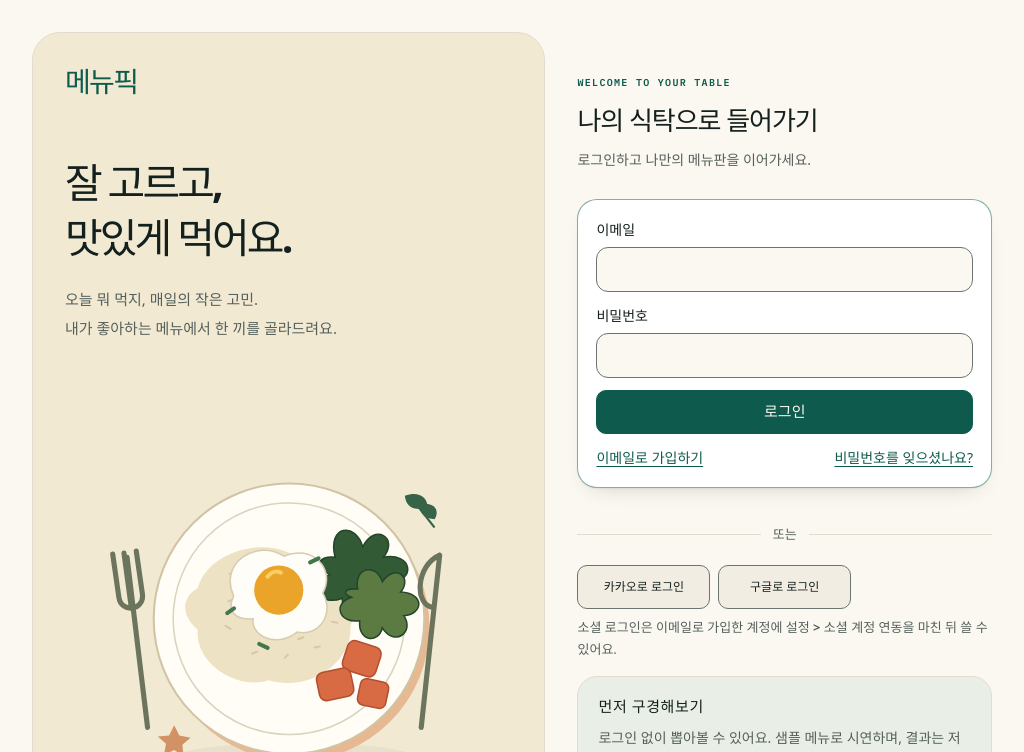
Scenario: LoginPage 제출 버튼 › 빈 채로 누르면 무엇을 채워야 하는지 알리고 그 칸으로 초점을 옮긴다
Click the button "로그인". click: [785, 412]
box: [596, 390, 973, 434]
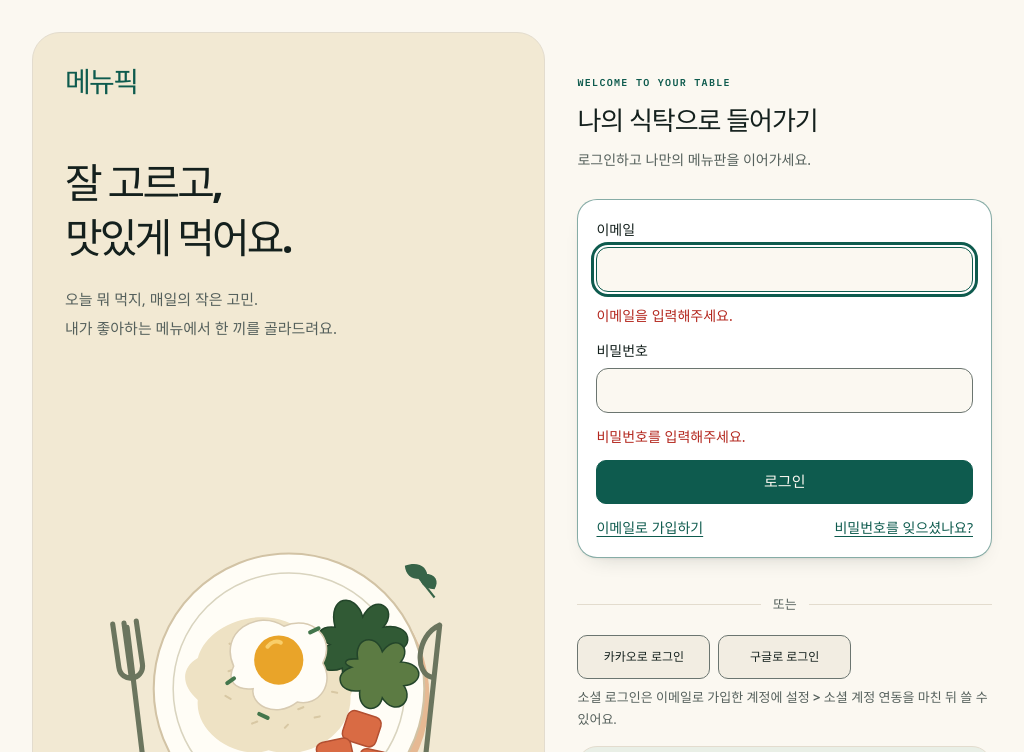
Now the messages read "이메일을 입력해주세요.", "비밀번호를 입력해주세요.", in this order, box [596, 306, 733, 325]; [596, 427, 746, 446]
